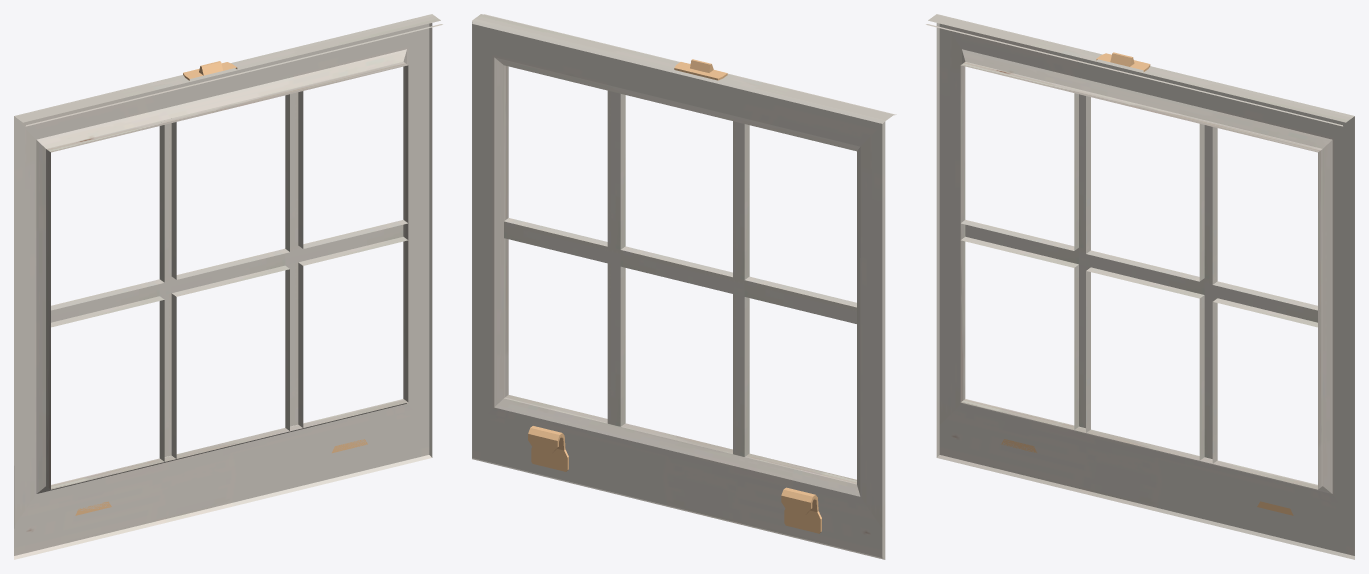
Rendered from VentanaB_H1.obj.
3 renders of one model, left to right at view 1: azimuth 30°, elevation 25°; view 2: azimuth 150°, elevation 25°; view 3: azimuth 330°, elevation 25°, orthographic.
Visible parts, largest first — view 1: polySurface258; view 2: polySurface258; view 3: polySurface258.
Boxes of the visible parts, <box> form: polySurface258: <box>14,14,442,559</box>; polySurface258: <box>472,14,896,559</box>; polySurface258: <box>926,14,1354,559</box>.
Size of the model in its own units: 0.5896 by 0.6108 by 0.0516.
1 material, 1 textured.
